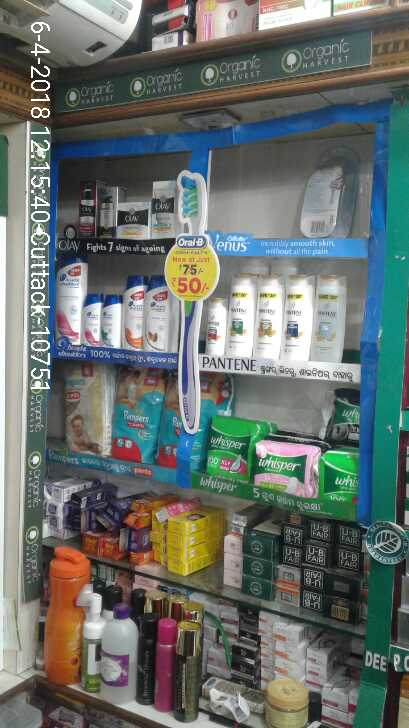venus: (296, 147, 359, 235)
